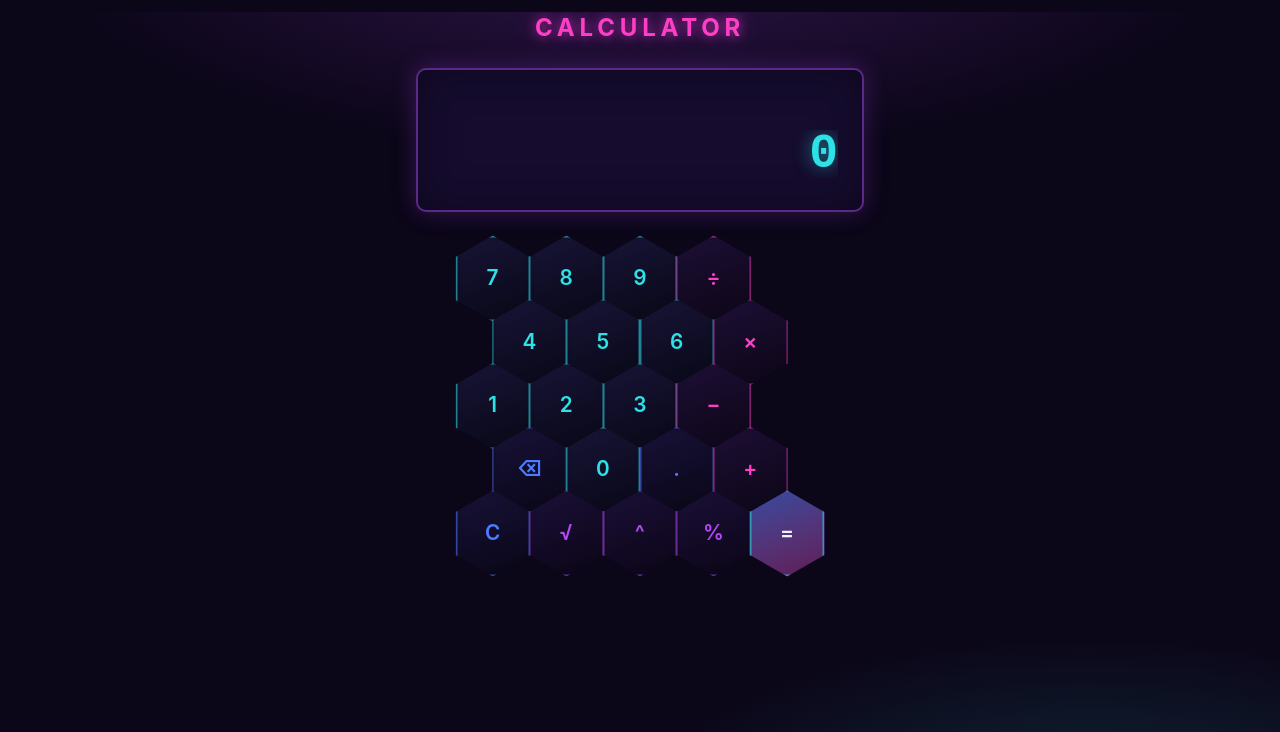
Test: CalculatorPage › computes √9 immediately without pressing equals
This screenshot has width=1280, height=732.
Click the button "9" at (640,278), box [603,236,677,322]
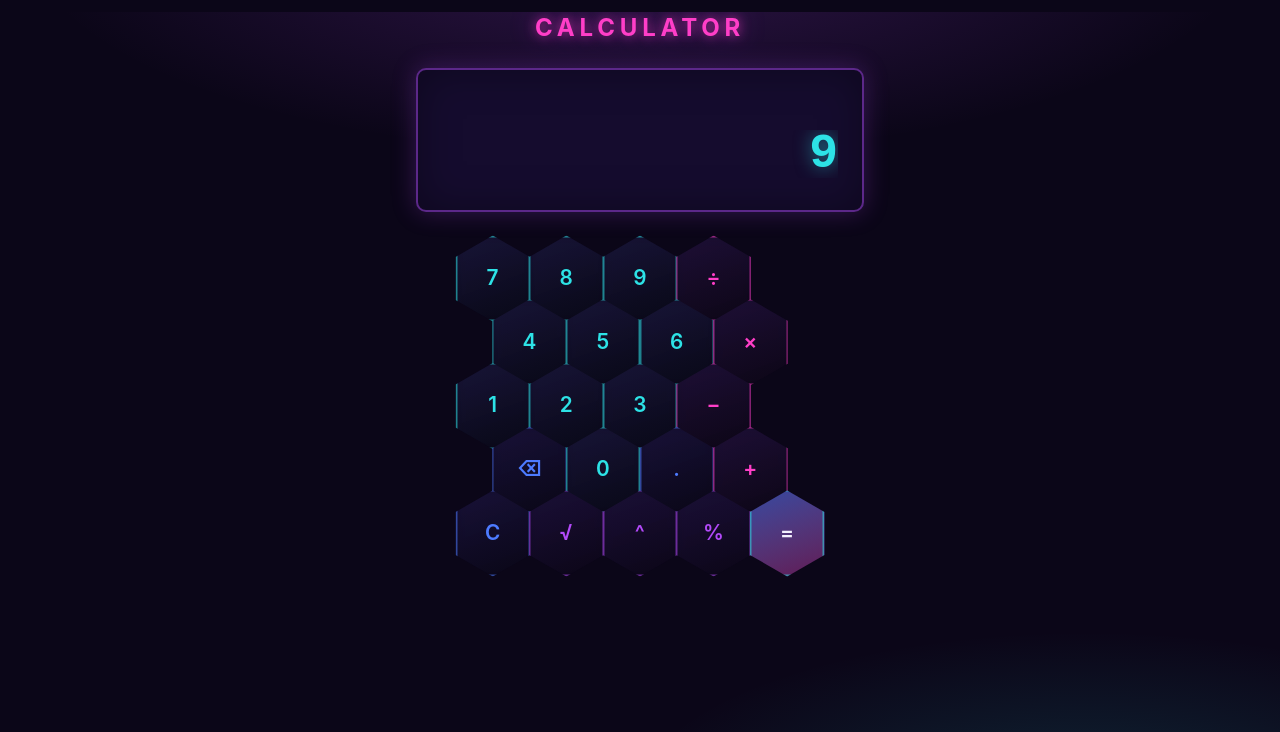
Click the button named "square root" at (566,534), box [529,490,604,576]
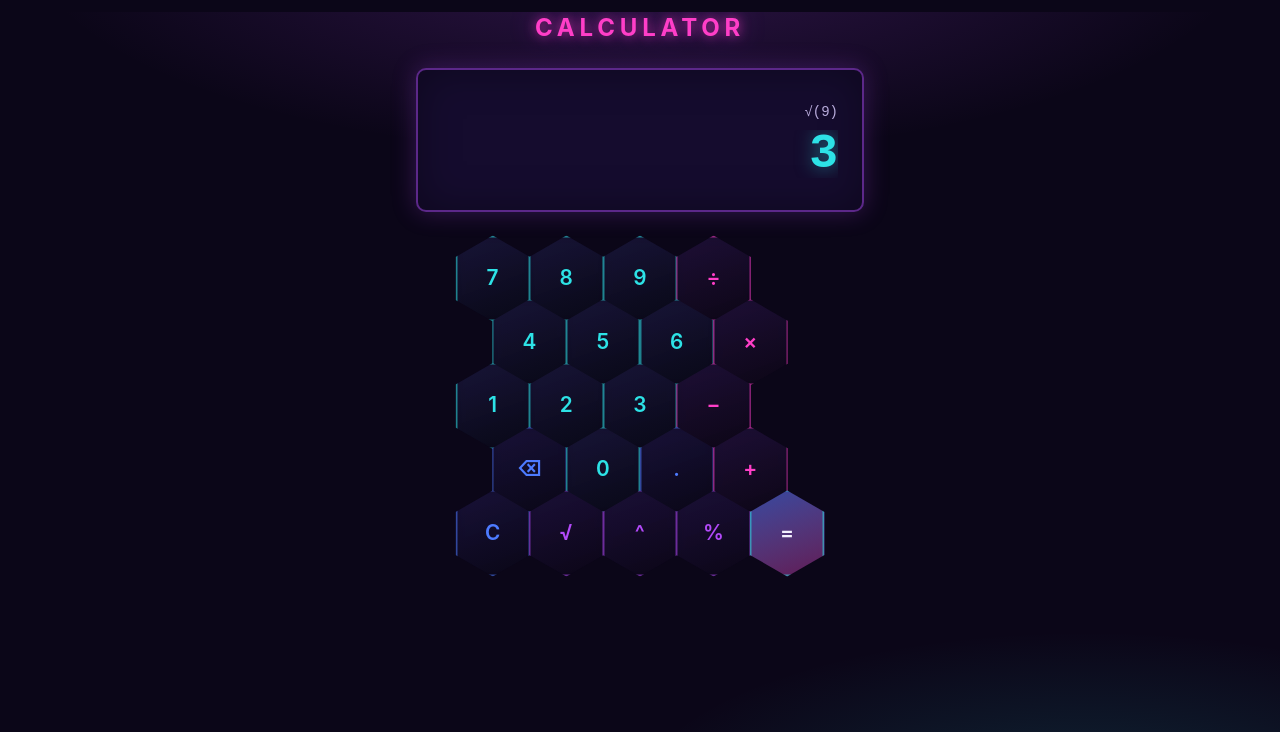
expect the text "3" below "√(9)" is shown: met, box [809,127,838,181]
